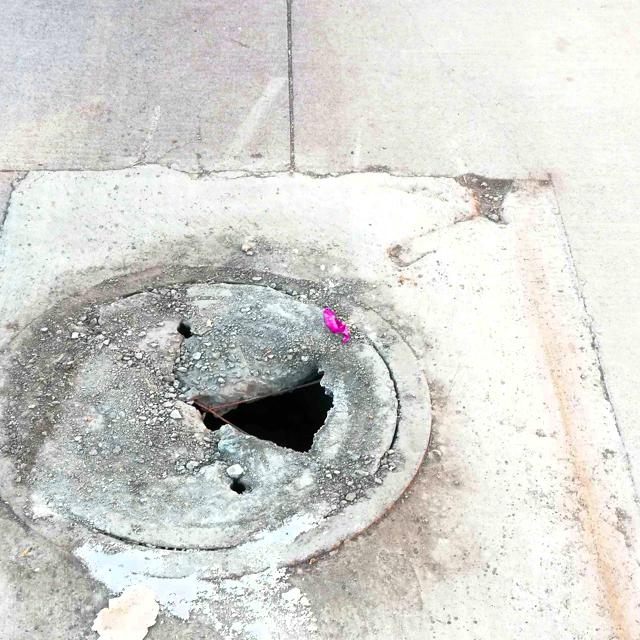broke: (0, 268, 432, 575)
